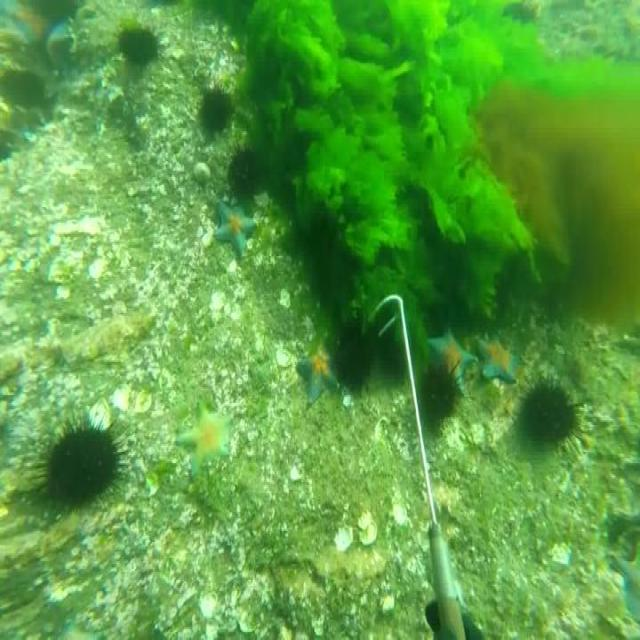echinus: (28, 405, 126, 523), (518, 372, 588, 458), (417, 356, 470, 420), (333, 318, 370, 395), (198, 79, 236, 134), (230, 147, 262, 201), (116, 25, 162, 62)
scallop: (357, 509, 379, 553), (91, 396, 111, 429), (133, 390, 153, 418), (335, 524, 352, 554), (391, 500, 407, 530), (86, 258, 105, 280), (276, 344, 292, 366), (280, 289, 292, 310)
starfish: (177, 399, 232, 484), (477, 322, 521, 381), (216, 193, 257, 256), (297, 343, 338, 401), (428, 326, 463, 388)
